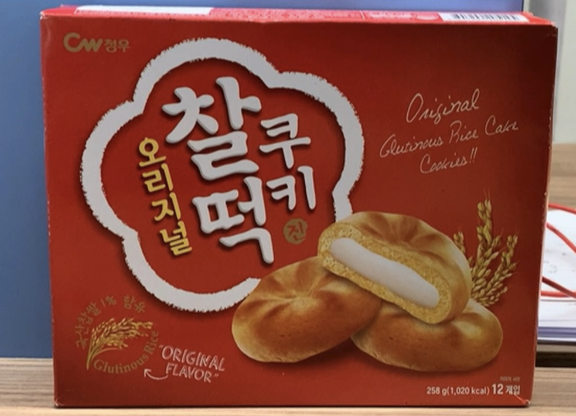cookies_150g: (62, 34, 522, 395)
